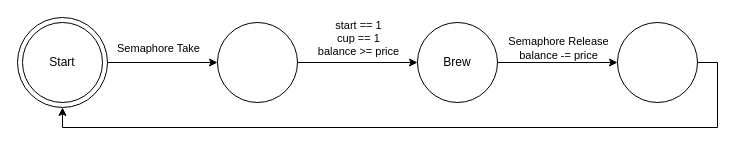
Image size: 743x153. Some labels were removed from this diagram. The shapes that lost their labels are listed below. From the top down, each one's centre as x and y in pixels, then its label:
point 257,62: Coffee type
point 657,62: LOG
